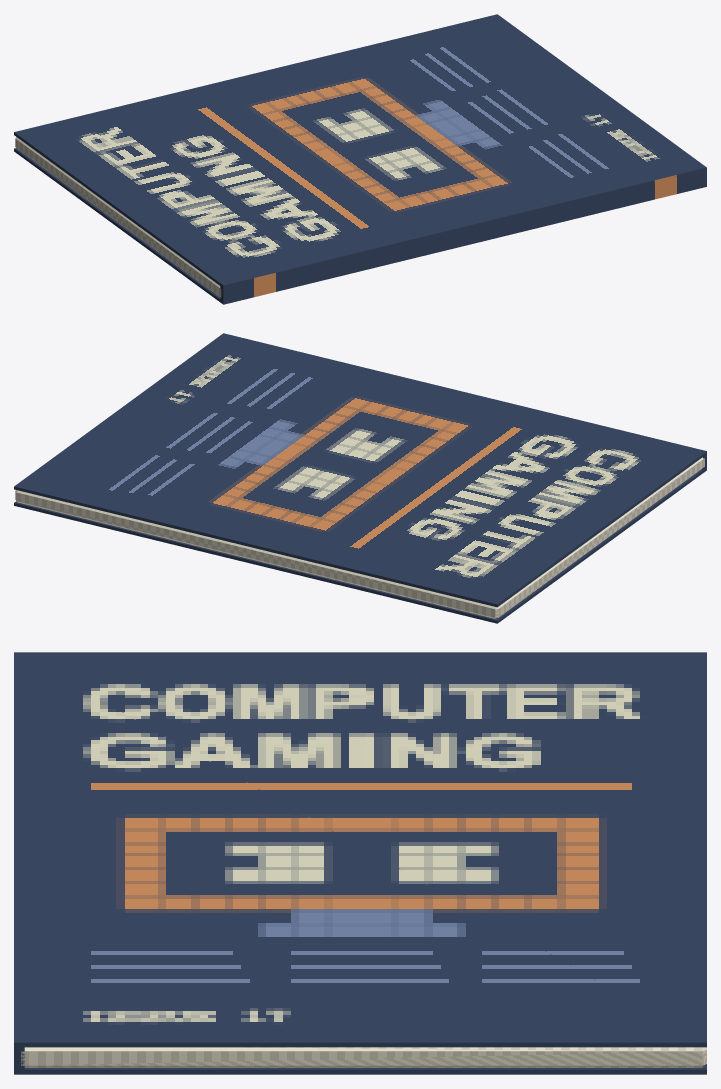
File: mag_gaming.glb
3 renders of one model, top to bottom at view 1: azimuth 30°, elevation 25°; view 2: azimuth 150°, elevation 25°; view 3: azimuth 270°, elevation 25°, orthographic. The views are drawn at different scales.
Parts seen in each view (by area): view 1: block_front, block_spine, block_pages, block_back; view 2: block_front, block_pages, block_back, block_spine; view 3: block_front, block_pages, block_back, block_spine.
Boxes of the visible parts, x1,y1,x2,y2 form: block_front: (14, 14, 705, 287); block_spine: (220, 167, 706, 304); block_pages: (15, 137, 221, 297); block_back: (14, 148, 222, 303); block_front: (14, 334, 706, 607); block_pages: (15, 457, 704, 619); block_back: (14, 468, 706, 623); block_spine: (220, 333, 706, 470); block_front: (16, 652, 706, 1047); block_pages: (21, 1047, 706, 1067); block_back: (16, 1064, 706, 1074); block_spine: (14, 652, 24, 1074).
Bounding box in the file's own units: 0.2154 × 0.00821 × 0.1617.
Materials: 1 (1 with a texture image).
